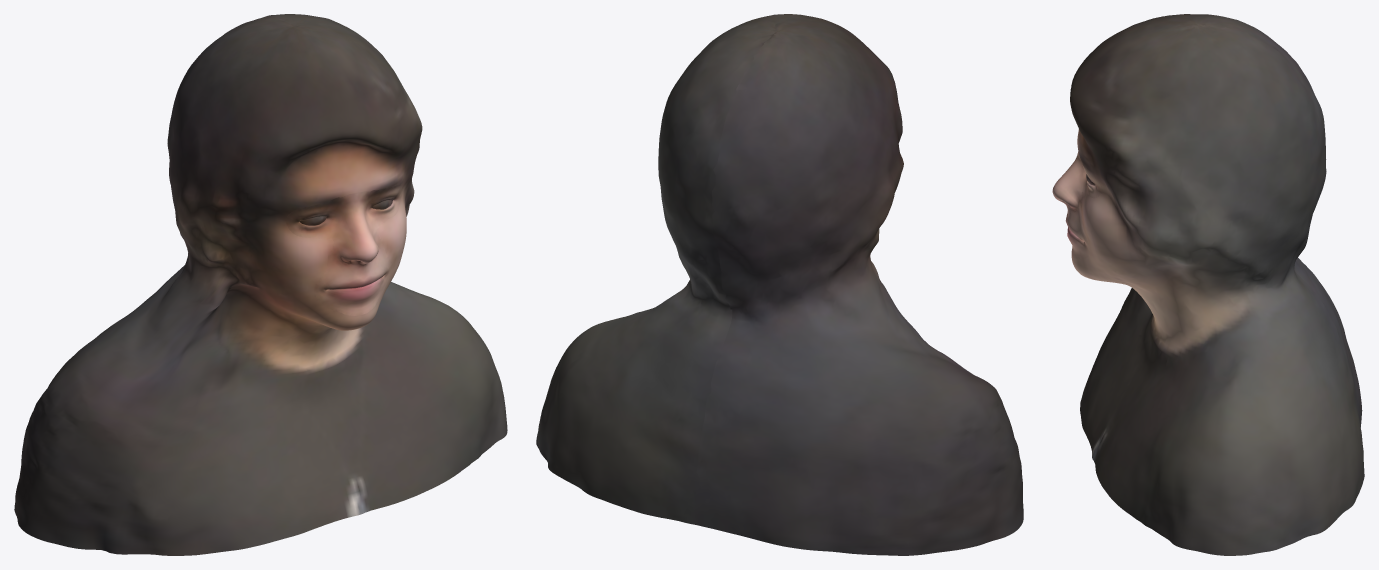
File: MiguelAlayo.gltf
3 views of the same model, side by side, from view 1: azimuth 30°, elevation 25°; view 2: azimuth 150°, elevation 25°; view 3: azimuth 270°, elevation 25° (orthographic). The views are drawn at different scales.
Visible parts, largest first — view 1: MiguelAlayo; view 2: MiguelAlayo; view 3: MiguelAlayo.
Boxes of the visible parts, x1=… form: MiguelAlayo: x1=14, y1=14, x2=507, y2=555; MiguelAlayo: x1=536, y1=14, x2=1023, y2=555; MiguelAlayo: x1=1052, y1=14, x2=1364, y2=555.
Size of the model in its own units: 9.34 by 8.39 by 5.53.
1 material, 1 textured.
